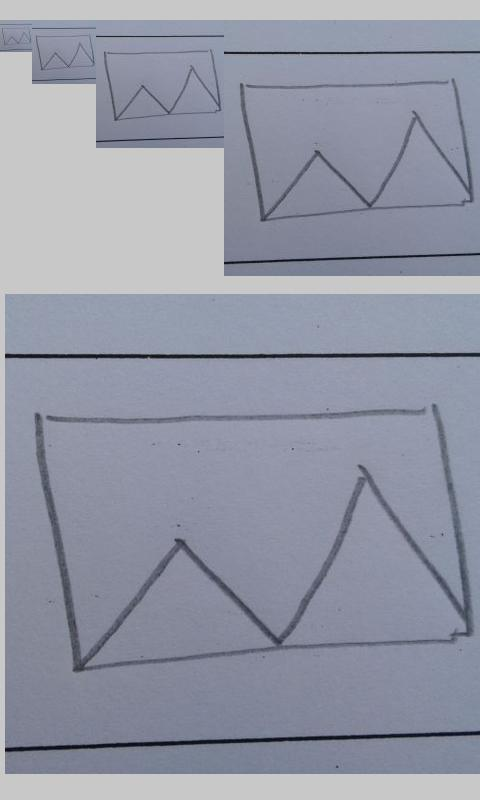image_view: (37, 406, 469, 674), (240, 80, 479, 223), (103, 49, 222, 121), (35, 34, 96, 71), (1, 27, 32, 46)
